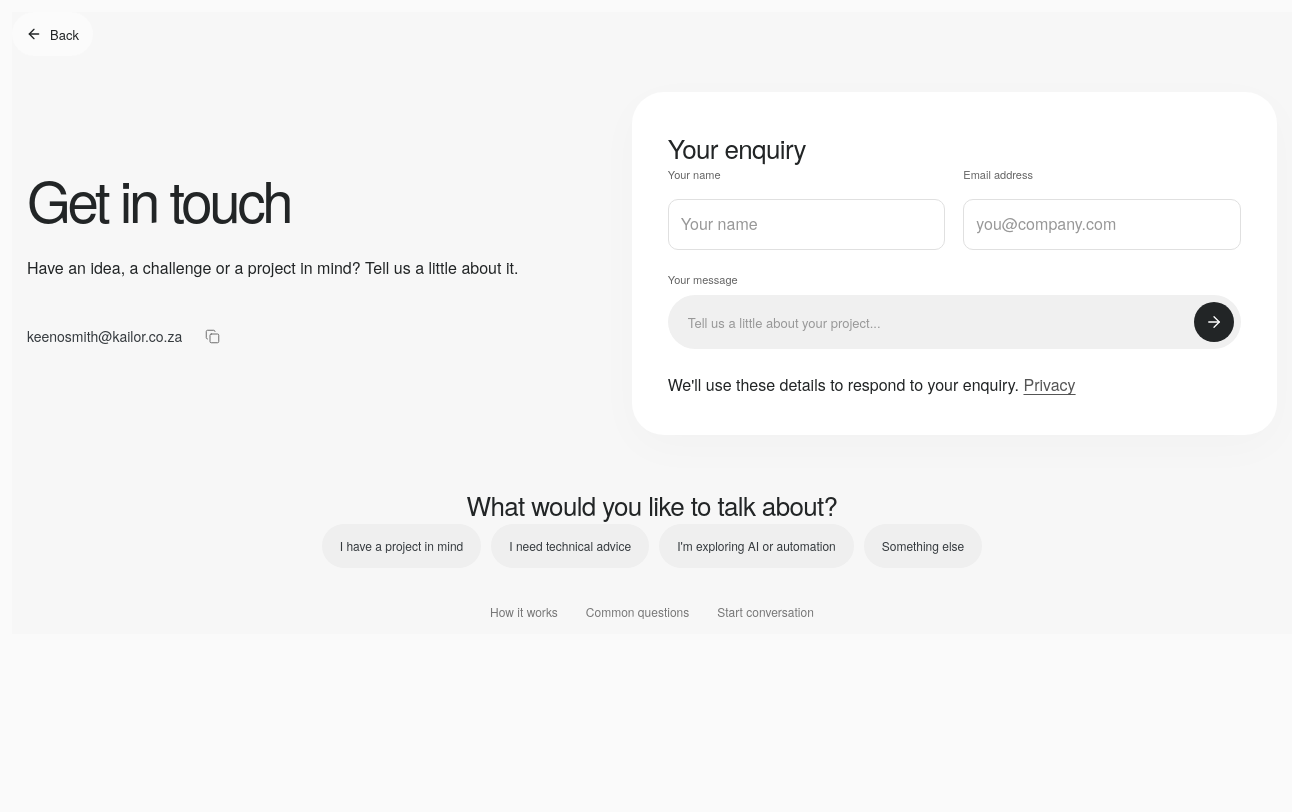
Test: preserves entered content and offers direct email on failure without exposing provider details
This screenshot has width=1292, height=812.
In the field labelled "Your name": [806, 225] box [668, 199, 945, 250], type "  Alex  "
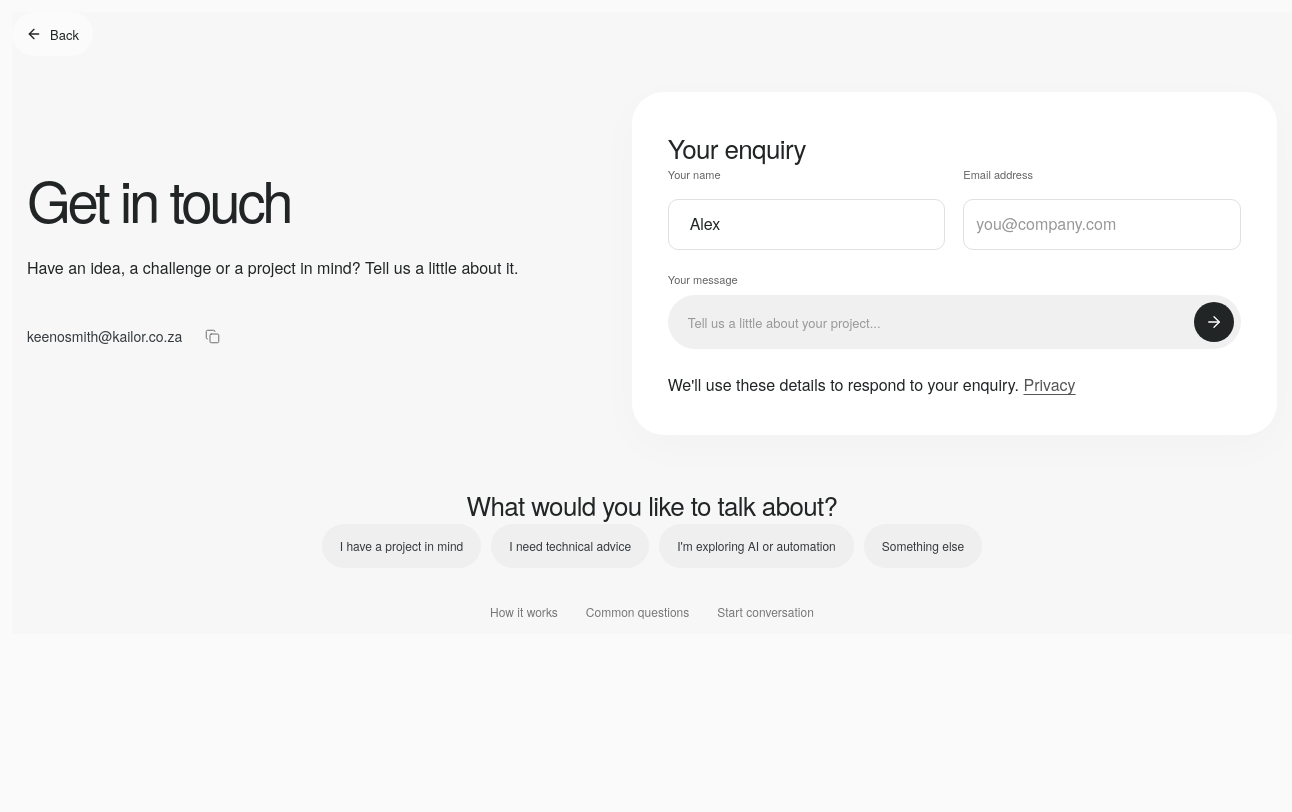
In the field labelled "Email address": [1102, 225] box [963, 199, 1241, 250], type "alex@example.com"
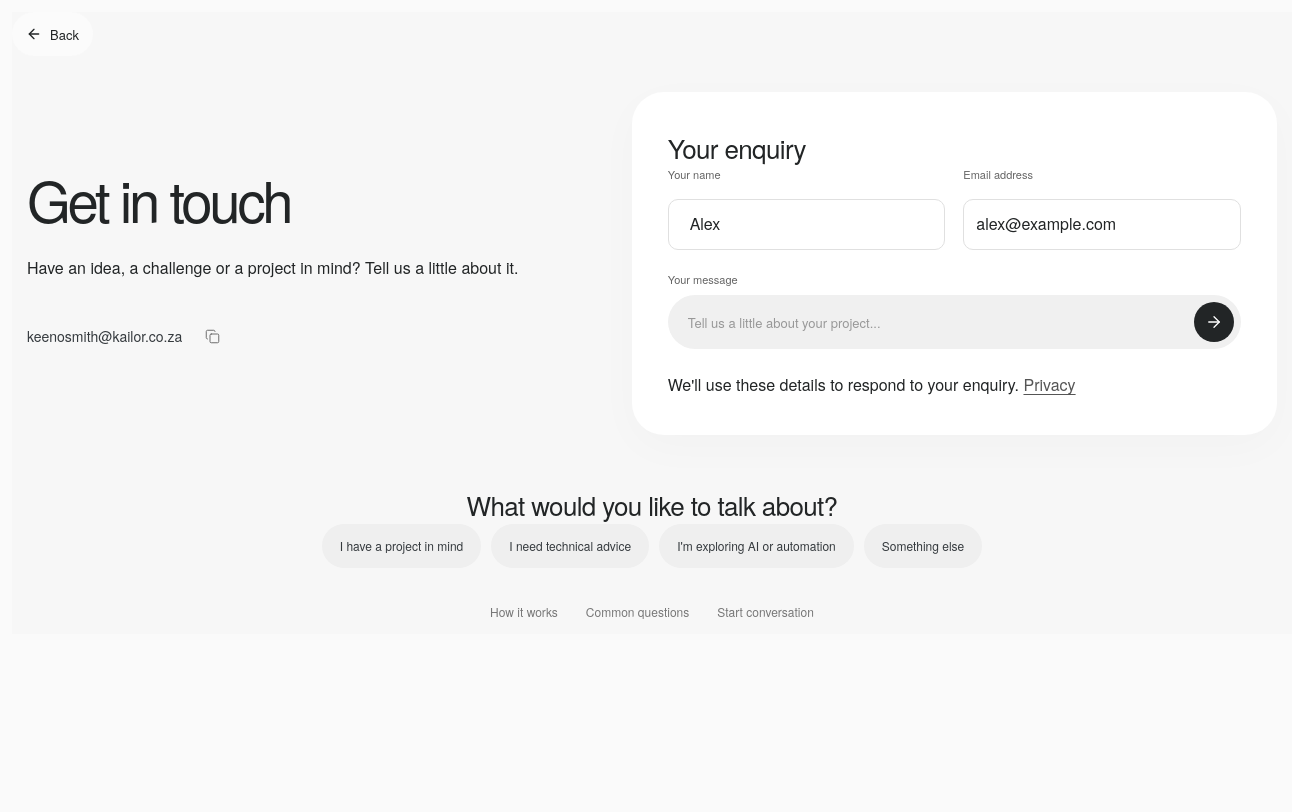
In the text box labelled "Your message": [954, 322] box [668, 295, 1241, 349], type "Please help us connect our existing systems."
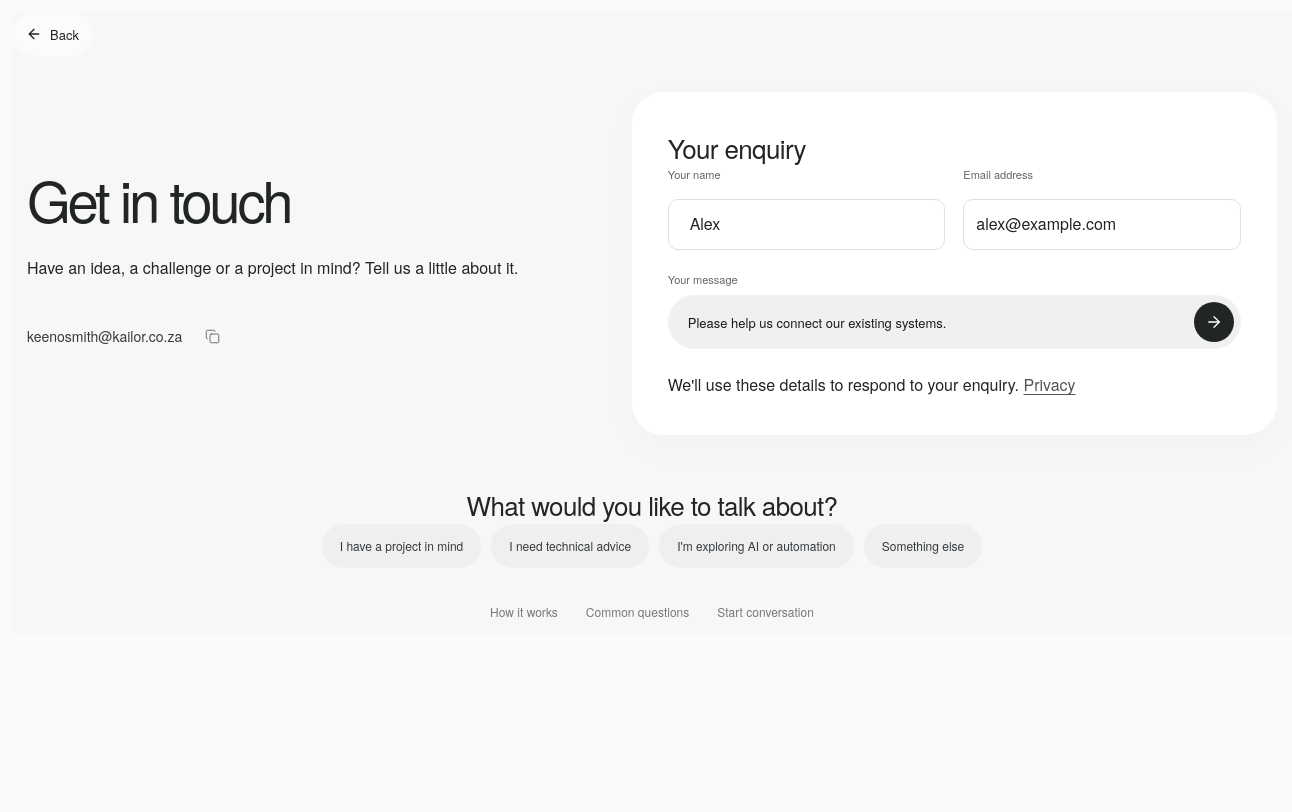
Submit the form named "Contact enquiry", box [668, 167, 1241, 399]
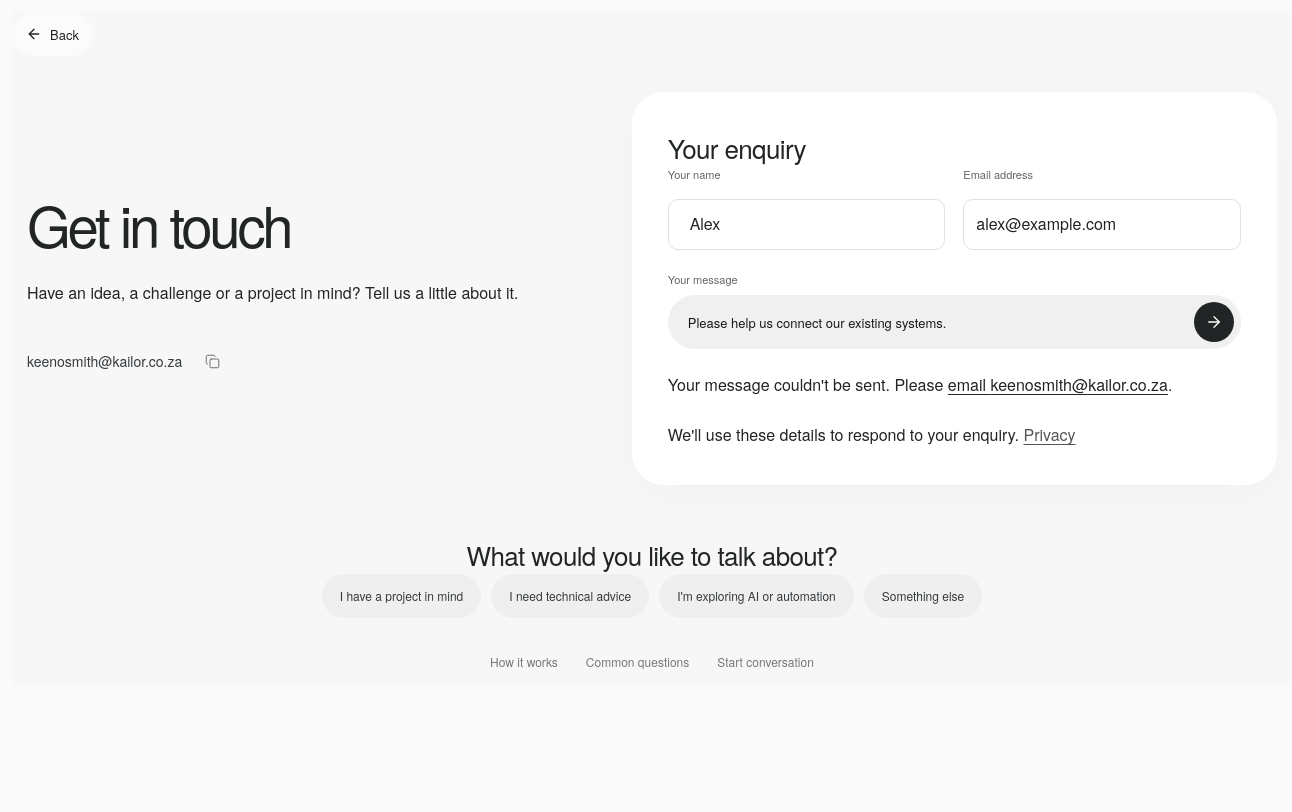
Expected: the message shows "couldn't be sent", [668, 373, 943, 396]
